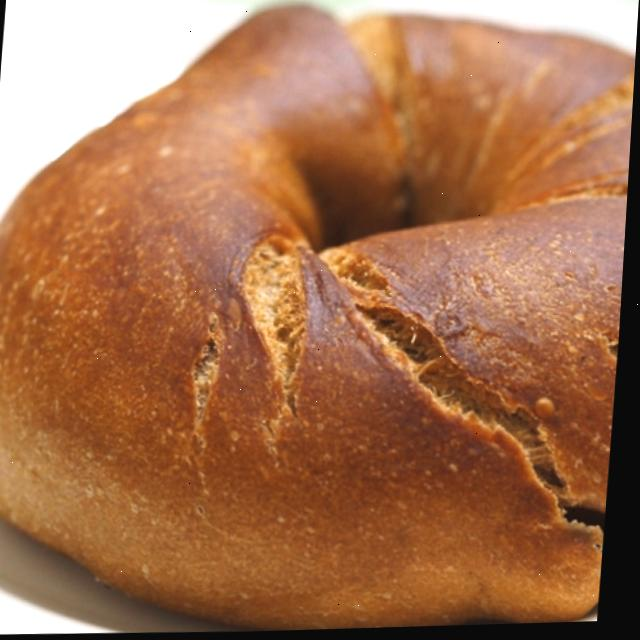面包点心: (0, 0, 638, 640)
